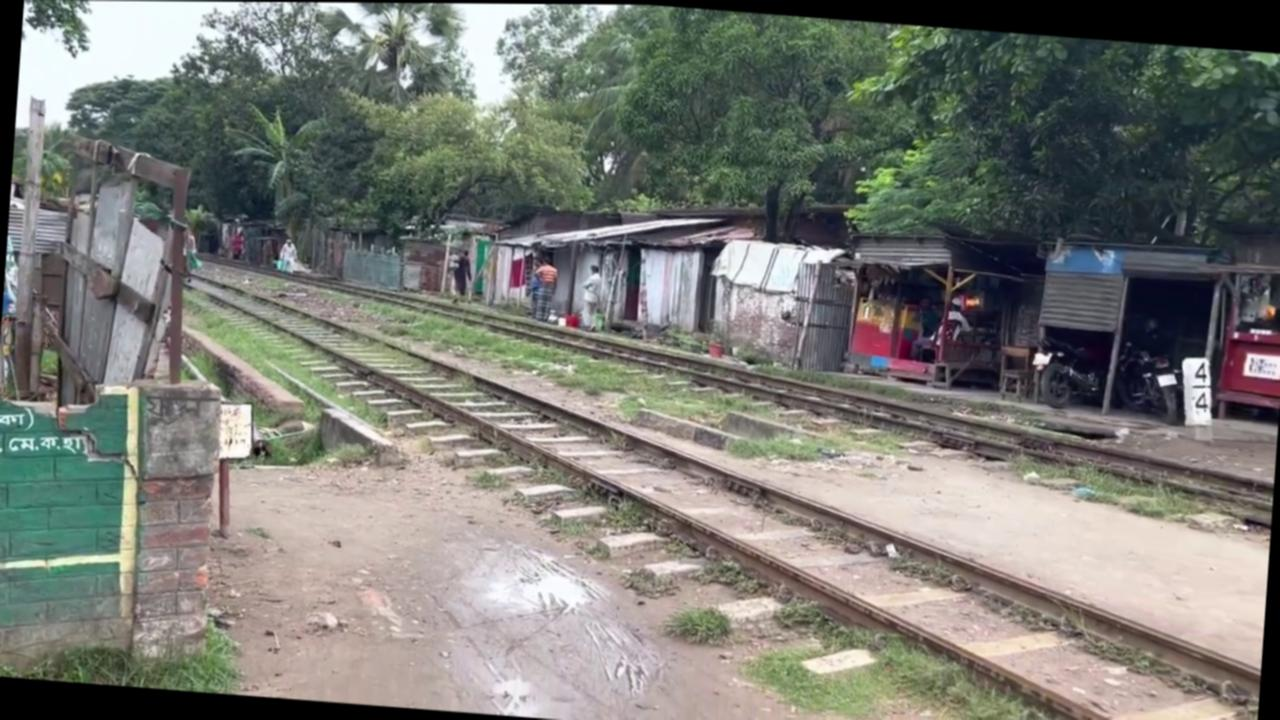Curb: (1027, 330, 1182, 415)
Fence: (908, 294, 942, 360), (528, 252, 558, 320), (576, 261, 603, 331), (448, 247, 473, 303), (180, 225, 200, 284), (276, 236, 296, 272), (228, 225, 246, 259)
Light-pole: (704, 317, 728, 357)
Motorcycle: (151, 248, 1280, 720)
Railroad-crossing: (308, 2, 471, 113)
